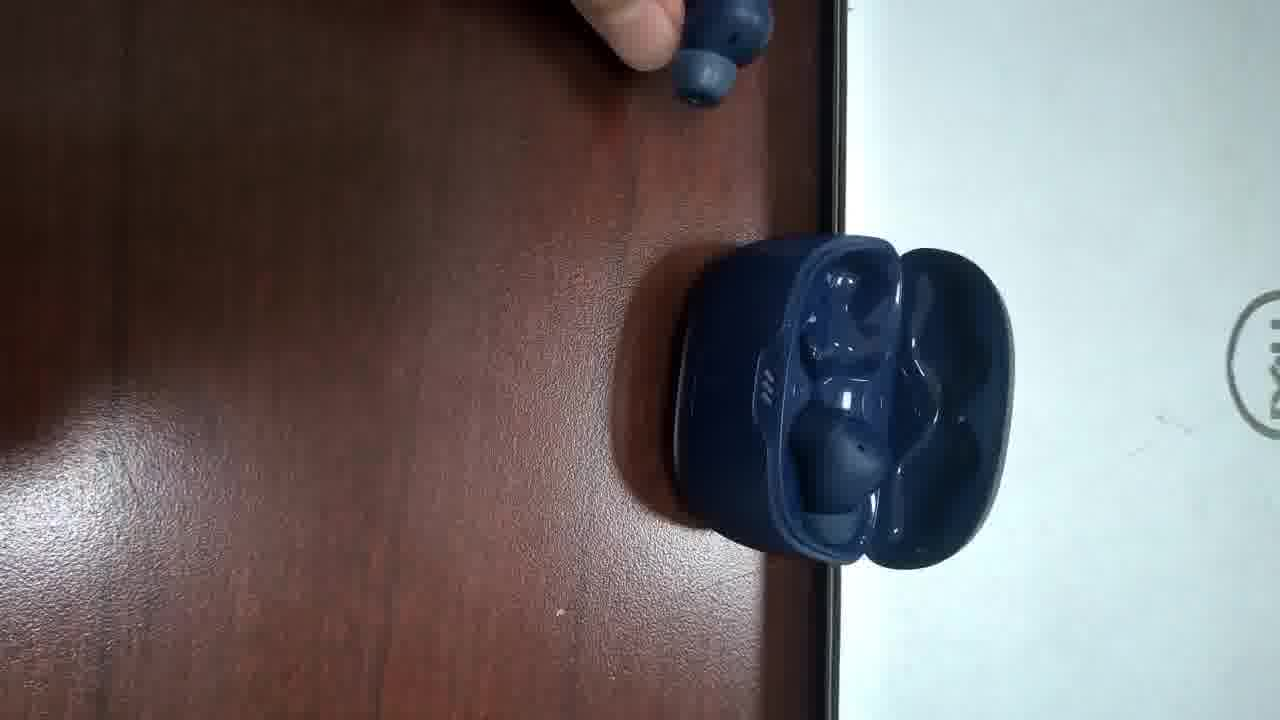Earbud: (790, 403, 890, 514), (672, 0, 773, 104)
